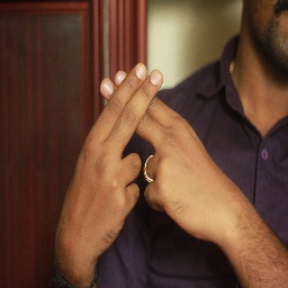F: (70, 52, 202, 179)
